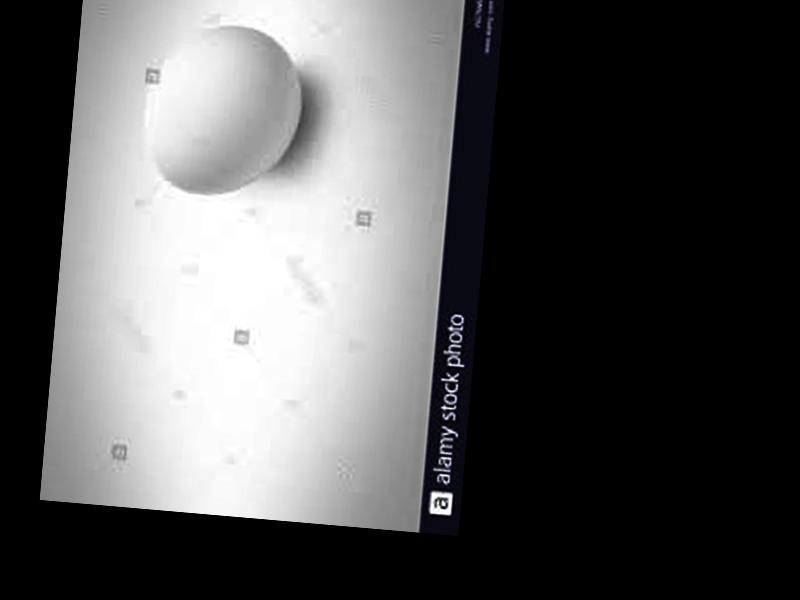Eggs: (140, 16, 308, 200)
